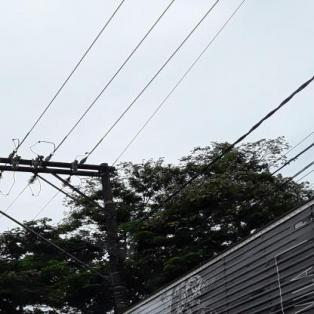Poste: (93, 161, 129, 314)
